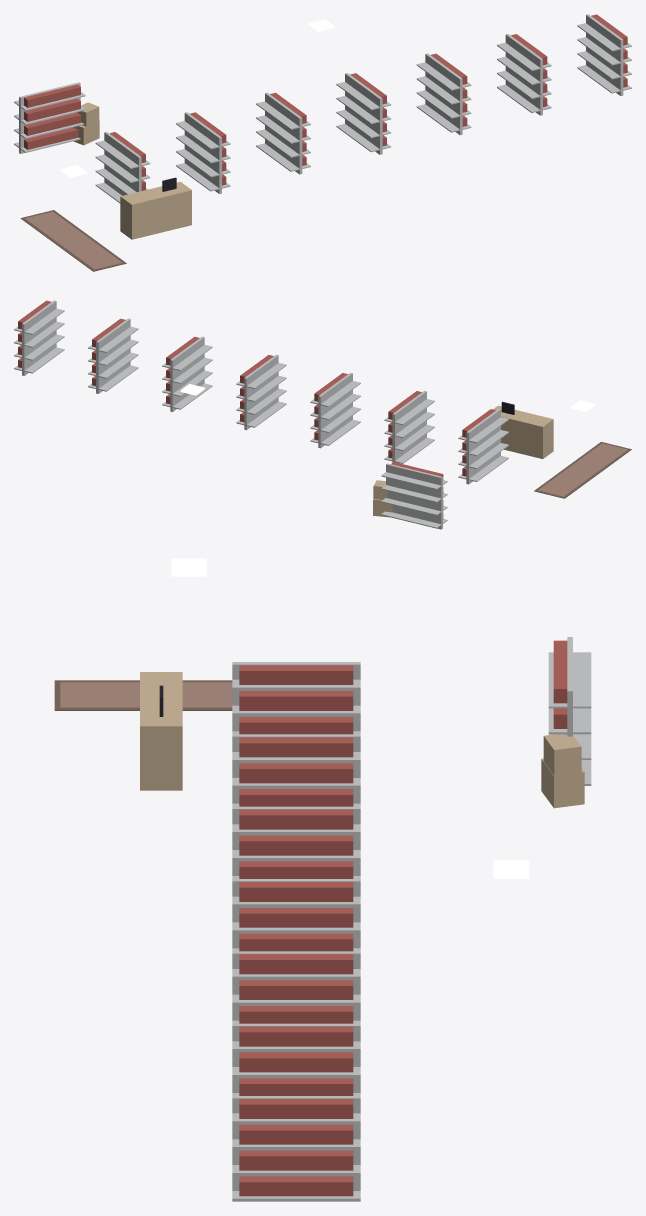
File: fine-s0.glb
3 renders of one model, top to bottom at view 1: azimuth 30°, elevation 25°; view 2: azimuth 150°, elevation 25°; view 3: azimuth 270°, elevation 25°, orthographic. The views are drawn at different scales.
Visible parts, largest first — view 1: shelving.000, shop-counter.000, shelf.001, shelf.004, shelf.005, shelf.002, shelf.003, shelf.006, shelf.000, soft-s0, cardboard-box.000; view 2: shelving.000, shelf.000, shelf.006, shelf.002, shelf.005, shelf.003, shelf.001, shelf.004, shop-counter.000, soft-s0, cardboard-box.000; view 3: shelf.006, shelf.000, shelf.001, shelf.002, shelf.003, shelf.004, shelf.005, shop-counter.000, shelving.000, soft-s0, cardboard-box.000.
Boxes of the visible parts, <box> form: shelving.000: <box>14,82,85,153</box>; shop-counter.000: <box>120,177,191,239</box>; shelf.001: <box>176,112,230,193</box>; shelf.004: <box>416,53,471,135</box>; shelf.005: <box>497,34,551,115</box>; shelf.002: <box>256,92,310,174</box>; shelf.003: <box>336,73,391,154</box>; shelf.006: <box>577,14,631,95</box>; shelf.000: <box>95,131,150,203</box>; soft-s0: <box>20,210,126,271</box>; cardboard-box.000: <box>73,102,99,145</box>; shelving.000: <box>381,462,447,529</box>; shelf.000: <box>458,409,508,484</box>; shelf.006: <box>14,300,64,375</box>; shelf.002: <box>310,372,360,448</box>; shelf.005: <box>88,318,138,393</box>; shelf.003: <box>236,354,286,430</box>; shelf.001: <box>384,390,434,463</box>; shelf.004: <box>162,336,212,411</box>; shop-counter.000: <box>493,401,553,458</box>; soft-s0: <box>534,442,631,498</box>; cardboard-box.000: <box>373,480,392,517</box>; shelf.006: <box>232,1096,360,1201</box>; shelf.000: <box>232,662,360,734</box>; shelf.001: <box>232,734,360,806</box>; shelf.002: <box>232,806,360,878</box>; shelf.003: <box>232,879,360,951</box>; shelf.004: <box>232,951,360,1023</box>; shelf.005: <box>232,1023,360,1095</box>; shop-counter.000: <box>140,672,182,790</box>; shelving.000: <box>548,637,591,785</box>; soft-s0: <box>54,680,232,710</box>; cardboard-box.000: <box>541,734,584,808</box>.
Bounding box in the file's own units: 17.55 × 2.01 × 7.53.
